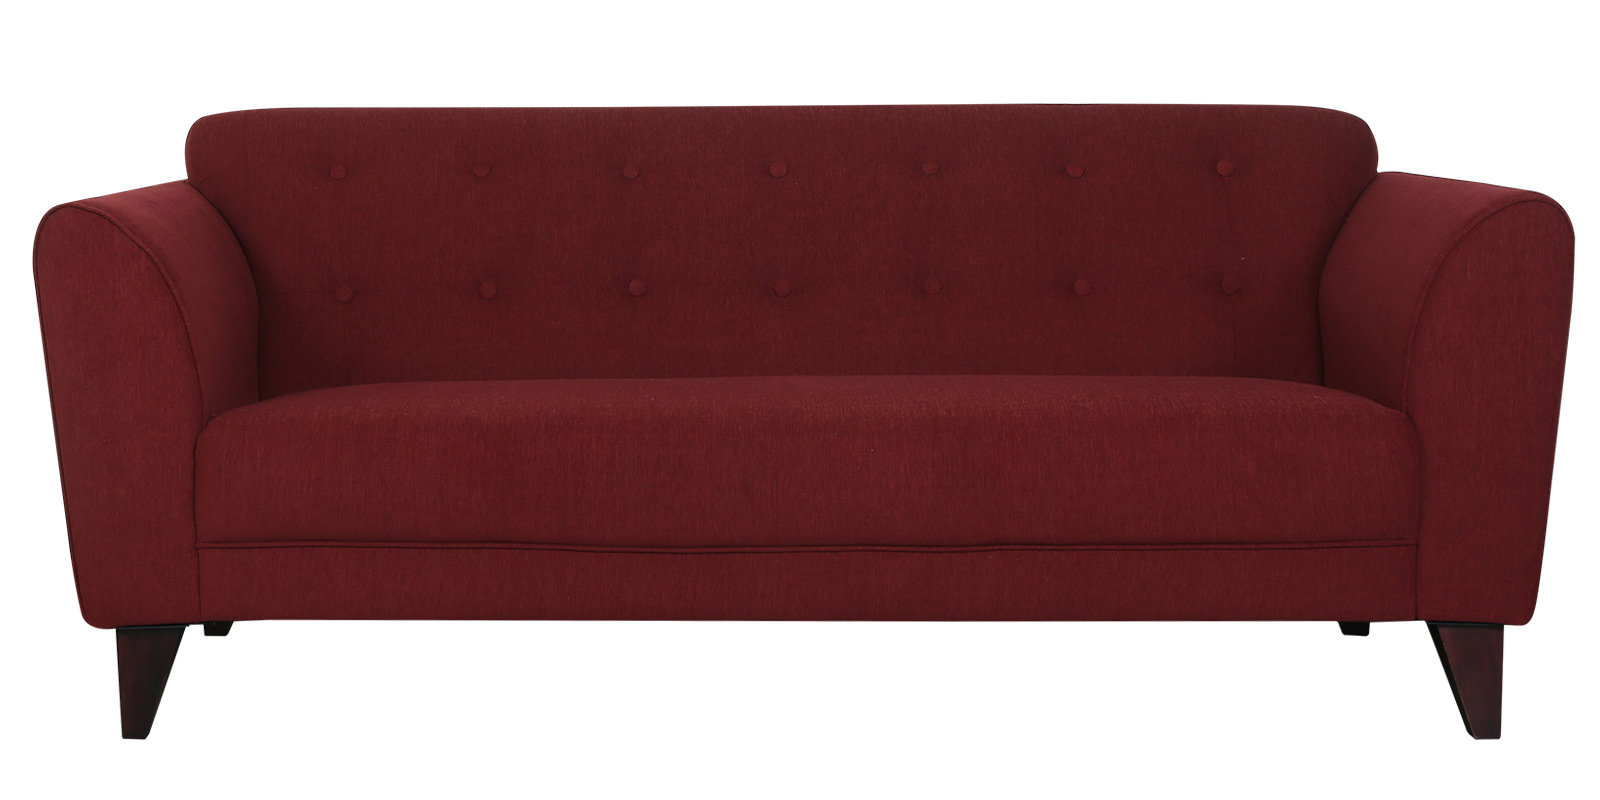Belem Three Seater Sofa in Garnet Red Color by CasaCraft: (18, 95, 1587, 665)
